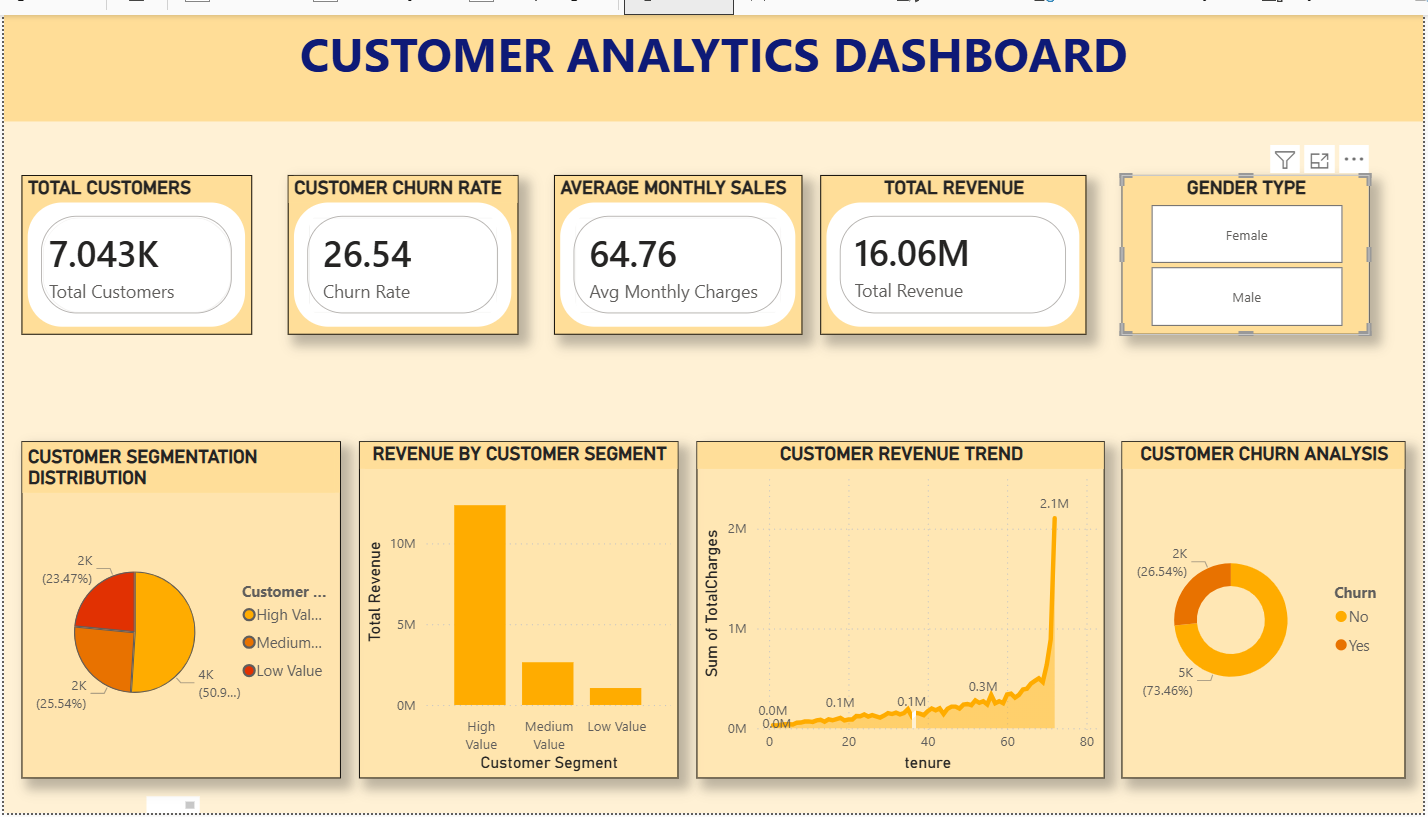

Layout of this report page (visuals, bound fields, positions):
{"tool":"powerbi","page":{"name":"Page 1","canvas":[1280,720],"ordinal":0},"visuals":[{"type":"cardVisual","title":"TOTAL CUSTOMERS","fields":{"Data":["Customer_Segmentation.Total Customers"]},"box":[16,144,208,144],"z":0},{"type":"cardVisual","title":"TOTAL REVENUE","fields":{"Data":["Customer_Segmentation.Total Revenue"]},"box":[736,144,240,144],"z":1},{"type":"cardVisual","title":"AVERAGE MONTHLY SALES","fields":{"Data":["Customer_Segmentation.Avg Monthly Charges"]},"box":[496,144,224,144],"z":2},{"type":"cardVisual","title":"CUSTOMER CHURN RATE","fields":{"Data":["Customer_Segmentation.Churn Rate"]},"box":[256,144,208,144],"z":3},{"type":"textbox","box":[128,704,48,16],"z":4},{"type":"pieChart","title":"CUSTOMER SEGMENTATION DISTRIBUTION","fields":{"Y":["Customer_Segmentation.Total Customers"],"Category":["Customer_Segmentation.Customer Segment"]},"box":[16,384,288,304],"z":6},{"type":"clusteredColumnChart","title":"REVENUE BY CUSTOMER SEGMENT","fields":{"Category":["Customer_Segmentation.Customer Segment"],"Y":["Customer_Segmentation.Total Revenue"]},"box":[320,384,288,304],"z":7},{"type":"lineChart","title":"CUSTOMER REVENUE TREND","fields":{"Y":["Sum(Customer_Segmentation.TotalCharges)"],"Category":["Customer_Segmentation.tenure"]},"box":[624,384,368,304],"z":8},{"type":"donutChart","title":"CUSTOMER CHURN ANALYSIS","fields":{"Category":["Customer_Segmentation.Churn"],"Y":["Customer_Segmentation.Total Customers"]},"box":[1008,384,256,304],"z":9},{"type":"slicer","title":"GENDER TYPE","fields":{"Values":["Customer_Segmentation.gender"]},"box":[1008,144,224,144],"z":10},{"type":"textbox","box":[0,0,1280,96],"z":12}]}

Visuals, with their boxes in screenshot pixels (x1, y1, x2, y2):
"TOTAL CUSTOMERS" cardVisual: [left=21, top=173, right=250, bottom=332]
"TOTAL REVENUE" cardVisual: [left=813, top=173, right=1078, bottom=332]
"AVERAGE MONTHLY SALES" cardVisual: [left=549, top=173, right=796, bottom=332]
"CUSTOMER CHURN RATE" cardVisual: [left=285, top=173, right=514, bottom=332]
textbox: [left=145, top=789, right=197, bottom=807]
"CUSTOMER SEGMENTATION DISTRIBUTION" pieChart: [left=21, top=437, right=338, bottom=772]
"REVENUE BY CUSTOMER SEGMENT" clusteredColumnChart: [left=356, top=437, right=673, bottom=772]
"CUSTOMER REVENUE TREND" lineChart: [left=690, top=437, right=1095, bottom=772]
"CUSTOMER CHURN ANALYSIS" donutChart: [left=1113, top=437, right=1394, bottom=772]
"GENDER TYPE" slicer: [left=1113, top=173, right=1359, bottom=332]
textbox: [left=4, top=15, right=1412, bottom=120]
